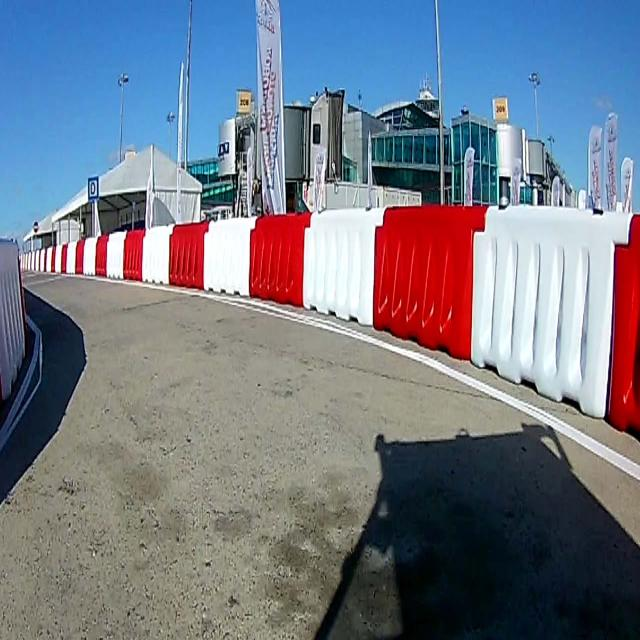durak: (88, 176, 98, 199)
